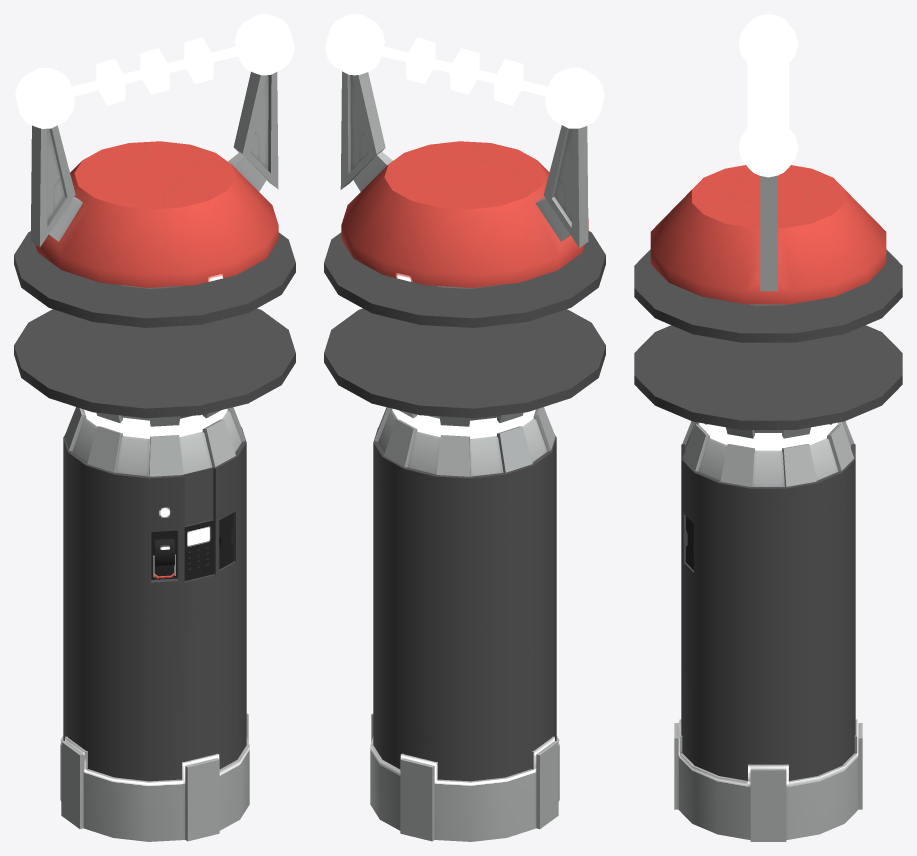
The model's file is TowerA.fbx.
3 views of the same model, side by side, from view 1: azimuth 30°, elevation 25°; view 2: azimuth 150°, elevation 25°; view 3: azimuth 270°, elevation 25° (orthographic). The views are drawn at different scales.
Visible parts, largest first — view 1: SM_VA_TowerA.mo; view 2: SM_VA_TowerA.mo; view 3: SM_VA_TowerA.mo.
Part boxes in pixels (left/top/right/bottom): SM_VA_TowerA.mo: left=14, top=14, right=295, bottom=841; SM_VA_TowerA.mo: left=324, top=14, right=605, bottom=841; SM_VA_TowerA.mo: left=634, top=14, right=902, bottom=841.
Bounding box in the file's own units: 1.53 × 4.06 × 1.34.
